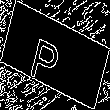P_N: (37, 25, 73, 85)
